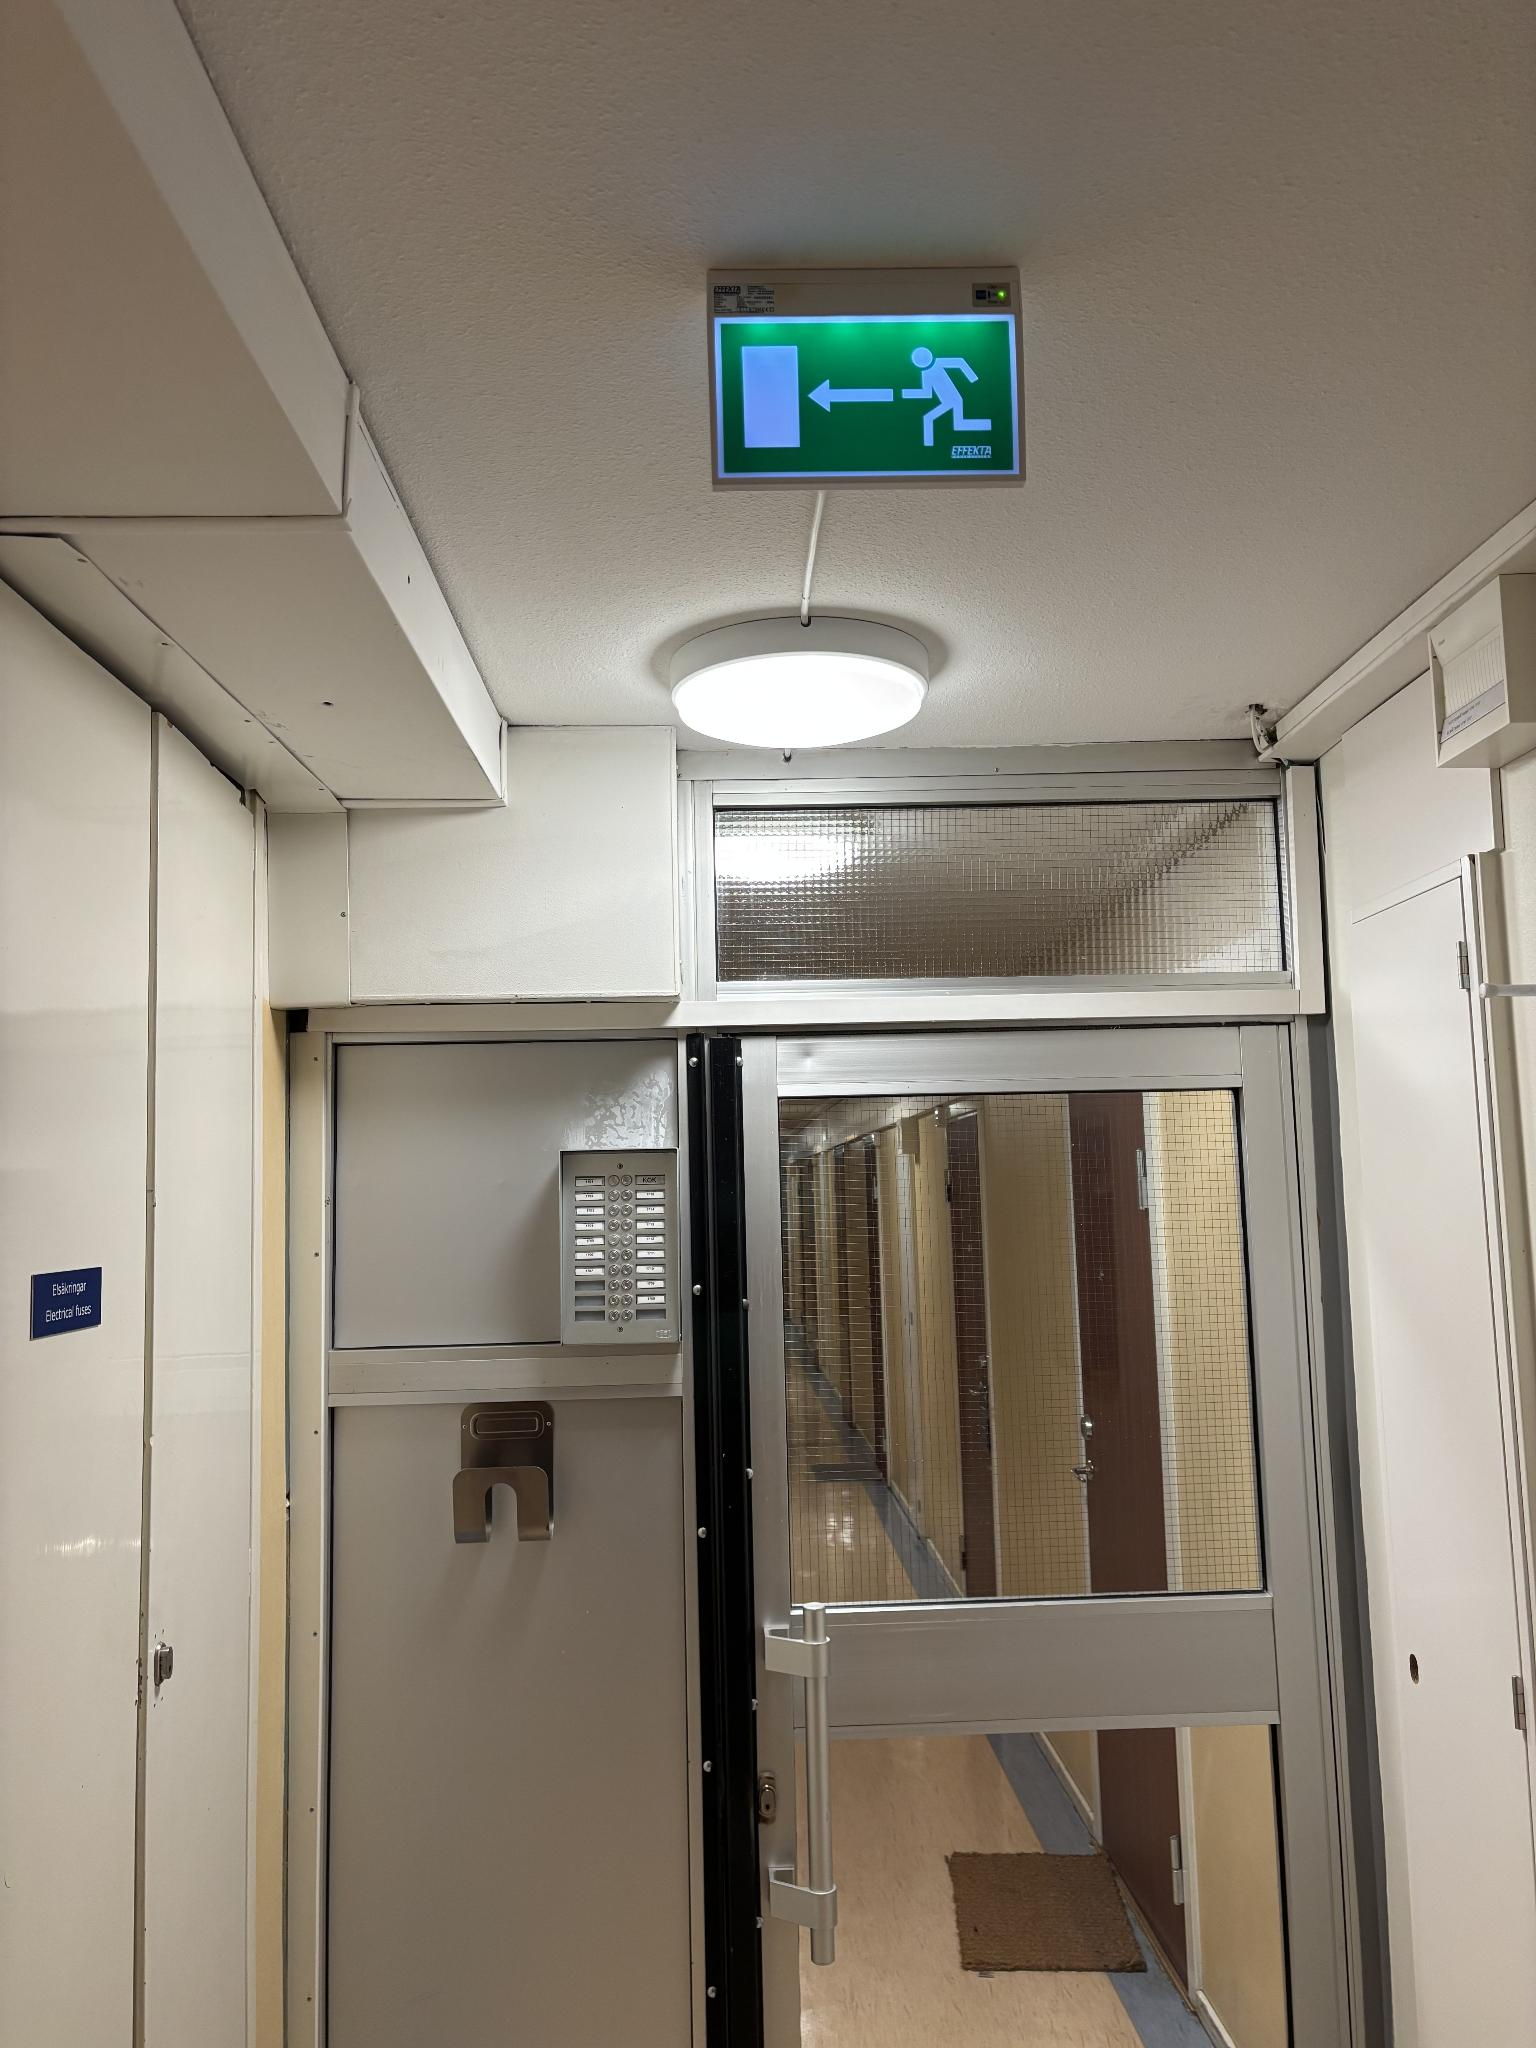exit_sign: (707, 319, 1016, 487)
